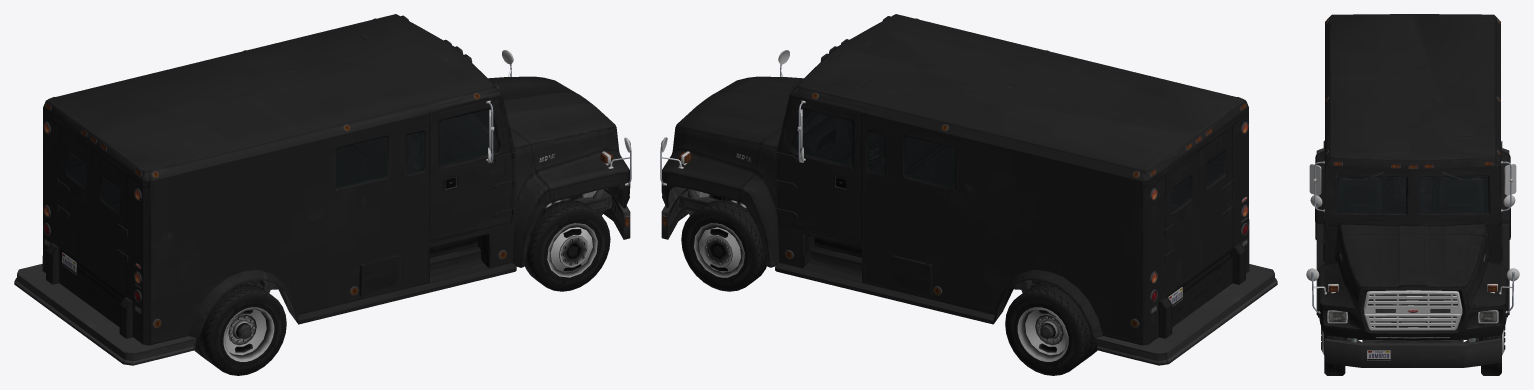
Rendered from cashvan_md84.glb.
3 views of the same model, side by side, from view 1: azimuth 30°, elevation 25°; view 2: azimuth 150°, elevation 25°; view 3: azimuth 270°, elevation 25° (orthographic). The views are drawn at different scales.
Parts seen in each view (by area): view 1: MD84Armored_Body_MD84Armored_Bodymat_0, MD84Armored_WheelStock_FL_RB1c_Tire_1k_0, MD84Armored_Bottom_UCB_BOTTOM_0, MD84Armored_Headlights_Glass_UCB_Lights_and_Glass_Transperen, MD84Armored_Interior_UCB_Interiors_2_0; view 2: MD84Armored_Body_MD84Armored_Bodymat_0, MD84Armored_WheelStock_FL_RB1c_Tire_1k_0, MD84Armored_Bottom_UCB_BOTTOM_0, MD84Armored_Headlights_Glass_UCB_Lights_and_Glass_Transperen, MD84Armored_Interior_UCB_Interiors_2_0; view 3: MD84Armored_Body_MD84Armored_Bodymat_0, MD84Armored_Bottom_UCB_BOTTOM_0, MD84Armored_Headlights_Glass_UCB_Lights_and_Glass_Transperen, MD84Armored_Interior_UCB_Interiors_2_0, MD84Armored_WheelStock_FL_RB1c_Tire_1k_0, MD84Armored_Headlights_UCB_Lights_and_Glass_0, MD84Armored_Numberplate_Front_Numberplates_Misk_U_0.
Part boxes in pixels (x1,y1,x2,y2): MD84Armored_Body_MD84Armored_Bodymat_0: (14,14,630,365); MD84Armored_WheelStock_FL_RB1c_Tire_1k_0: (194,200,610,375); MD84Armored_Bottom_UCB_BOTTOM_0: (43,15,631,328); MD84Armored_Headlights_Glass_UCB_Lights_and_Glass_Transperen: (44,109,498,312); MD84Armored_Interior_UCB_Interiors_2_0: (407,115,496,172); MD84Armored_Body_MD84Armored_Bodymat_0: (661,14,1277,365); MD84Armored_WheelStock_FL_RB1c_Tire_1k_0: (681,200,1097,375); MD84Armored_Bottom_UCB_BOTTOM_0: (660,16,1248,328); MD84Armored_Headlights_Glass_UCB_Lights_and_Glass_Transperen: (793,109,1247,312); MD84Armored_Interior_UCB_Interiors_2_0: (795,116,884,172); MD84Armored_Body_MD84Armored_Bodymat_0: (1315,14,1510,367); MD84Armored_Bottom_UCB_BOTTOM_0: (1306,18,1519,351); MD84Armored_Headlights_Glass_UCB_Lights_and_Glass_Transperen: (1328,176,1497,322); MD84Armored_Interior_UCB_Interiors_2_0: (1338,176,1484,212); MD84Armored_WheelStock_FL_RB1c_Tire_1k_0: (1315,208,1510,375); MD84Armored_Headlights_UCB_Lights_and_Glass_0: (1329,312,1496,321); MD84Armored_Numberplate_Front_Numberplates_Misk_U_0: (1367,350,1390,360).
Size of the model in its own units: 6.34 by 2.58 by 2.69.
8 materials, 8 textured.
